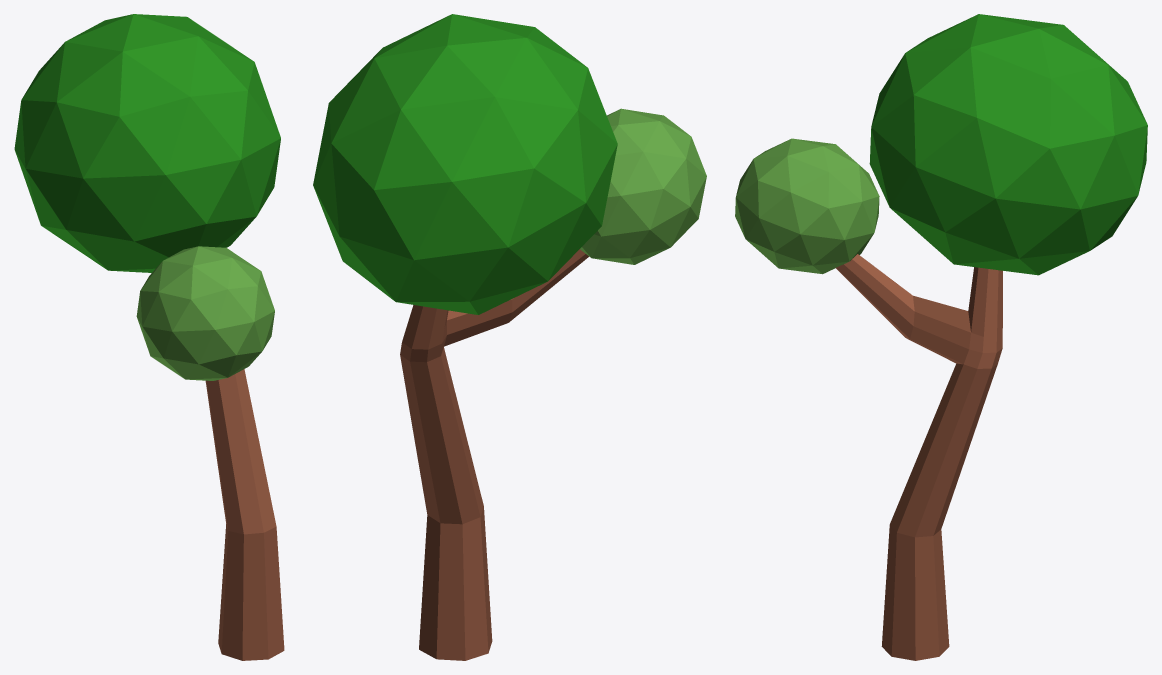
File: Tree_02_summer_pal.fbx
3 renders of one model, left to right at view 1: azimuth 30°, elevation 25°; view 2: azimuth 150°, elevation 25°; view 3: azimuth 270°, elevation 25°, orthographic. The views are drawn at different scales.
Visible parts, largest first — view 1: Tree_02_summer_pal; view 2: Tree_02_summer_pal; view 3: Tree_02_summer_pal.
Boxes of the visible parts, <box> form: Tree_02_summer_pal: <box>14,14,284,660</box>; Tree_02_summer_pal: <box>313,14,706,660</box>; Tree_02_summer_pal: <box>735,14,1147,660</box>.
Size of the model in its own units: 71.42 by 177 by 112.
